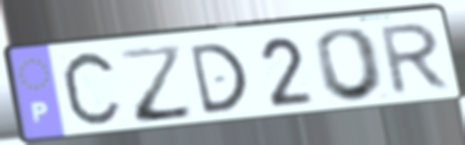2: (258, 35, 318, 110)
C: (58, 46, 126, 134)
D: (186, 39, 251, 117)
O: (313, 25, 390, 105)
R: (378, 20, 454, 99)
Z: (116, 41, 197, 126)
